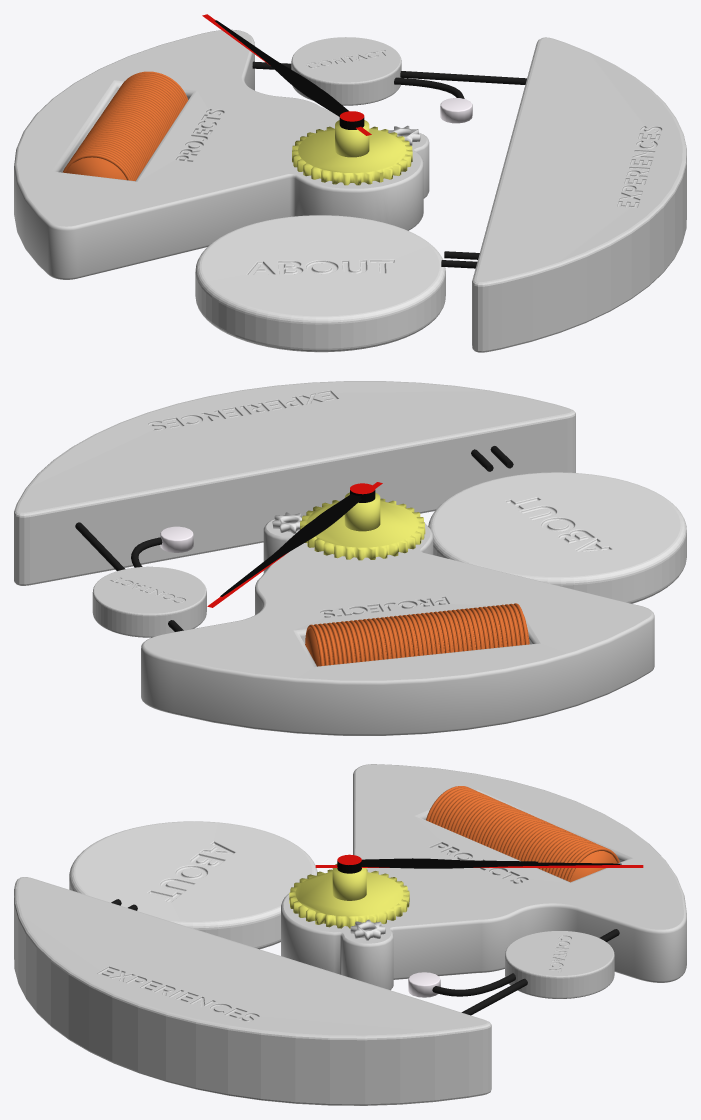
File: Relogio fbaup.glb
The picture shows the model from 3 angles, top to bottom: view 1: azimuth 30°, elevation 25°; view 2: azimuth 150°, elevation 25°; view 3: azimuth 270°, elevation 25°; orthographic projection. The views are drawn at different scales.
Visible parts, largest first — view 1: Projects, Experiences, About, Bobina, Contact, Engrenagem Grande, Caminho, Horas, Minutos, Caminho 1; view 2: Experiences, Projects, About, Bobina, Contact, Engrenagem Grande, Caminho, Horas, Minutos, Caminho 1; view 3: Experiences, Projects, About, Bobina, Contact, Engrenagem Grande, Caminho, Minutos, Horas, Caminho 1, Engrenagem pequena.
Boxes of the visible parts, bbox=[...] form: Projects: bbox=[14, 29, 429, 279]; Experiences: bbox=[472, 37, 686, 352]; About: bbox=[195, 215, 445, 352]; Bobina: bbox=[62, 71, 188, 181]; Contact: bbox=[291, 37, 401, 105]; Engrenagem Grande: bbox=[292, 120, 412, 185]; Caminho: bbox=[252, 61, 526, 268]; Horas: bbox=[257, 49, 348, 114]; Minutos: bbox=[215, 20, 339, 116]; Caminho 1: bbox=[440, 98, 472, 123]; Experiences: bbox=[14, 381, 575, 585]; Projects: bbox=[141, 519, 654, 735]; About: bbox=[428, 472, 686, 603]; Bobina: bbox=[305, 603, 529, 666]; Contact: bbox=[92, 566, 206, 637]; Engrenagem Grande: bbox=[300, 492, 425, 560]; Caminho: bbox=[75, 446, 513, 631]; Horas: bbox=[264, 494, 361, 562]; Minutos: bbox=[220, 498, 362, 596]; Caminho 1: bbox=[160, 526, 193, 552]; Experiences: bbox=[14, 877, 491, 1105]; Projects: bbox=[281, 764, 686, 990]; About: bbox=[69, 821, 317, 949]; Bobina: bbox=[426, 786, 619, 882]; Contact: bbox=[505, 931, 614, 998]; Engrenagem Grande: bbox=[289, 864, 409, 928]; Caminho: bbox=[111, 899, 619, 1015]; Minutos: bbox=[360, 862, 621, 868]; Horas: bbox=[361, 858, 537, 865]; Caminho 1: bbox=[408, 972, 440, 997]; Engrenagem pequena: bbox=[350, 919, 385, 940].
Bounding box in the file's own units: 1.83 × 0.3186 × 1.84.
